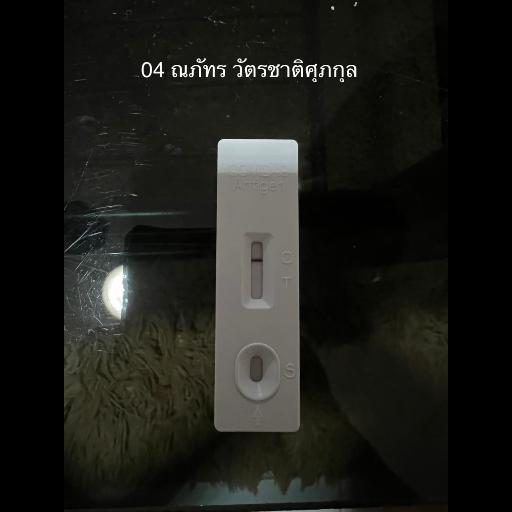Neg: (218, 136, 298, 430)
